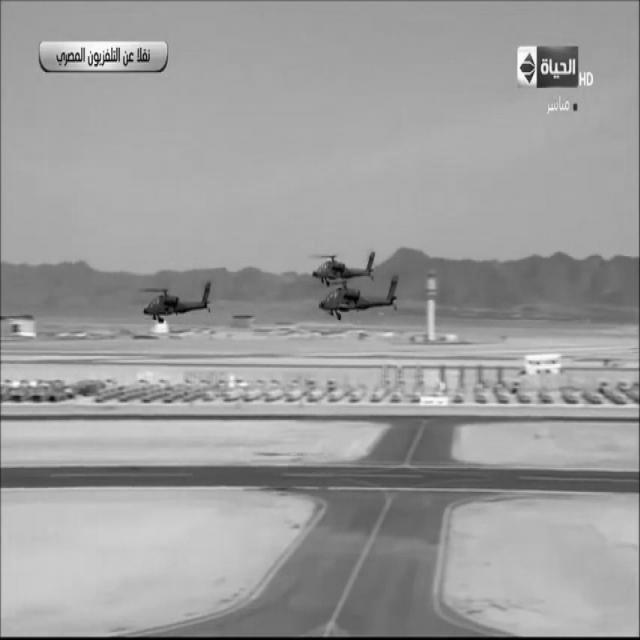helikopter: (304, 243, 410, 329), (136, 257, 227, 340)
